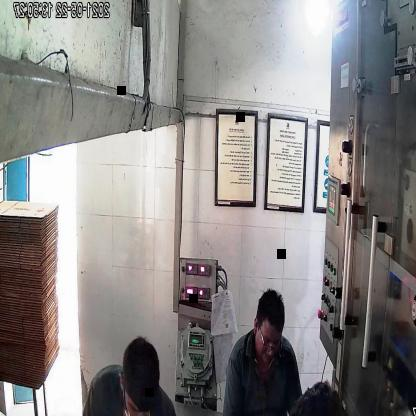goggles: (255, 327, 284, 355)
